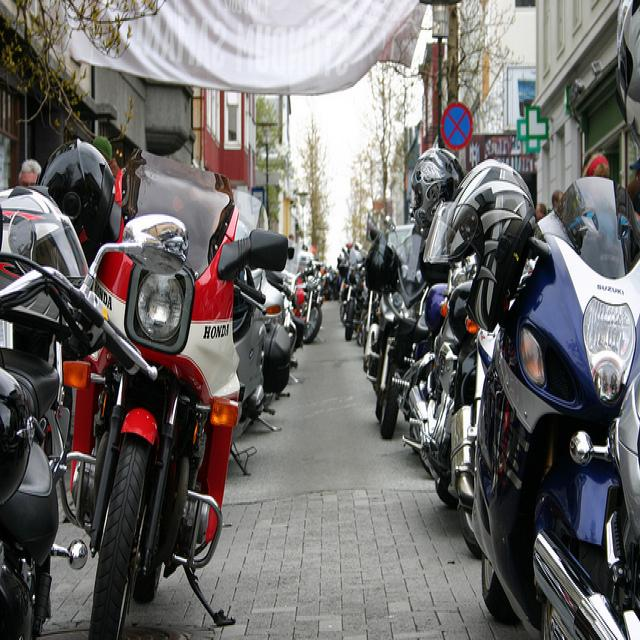motor: (61, 146, 288, 640), (1, 141, 186, 629), (468, 177, 639, 639), (387, 161, 536, 557), (363, 216, 446, 439), (234, 298, 293, 416), (250, 266, 300, 367), (354, 234, 396, 344), (344, 248, 365, 344), (303, 275, 327, 344), (293, 275, 306, 349)
